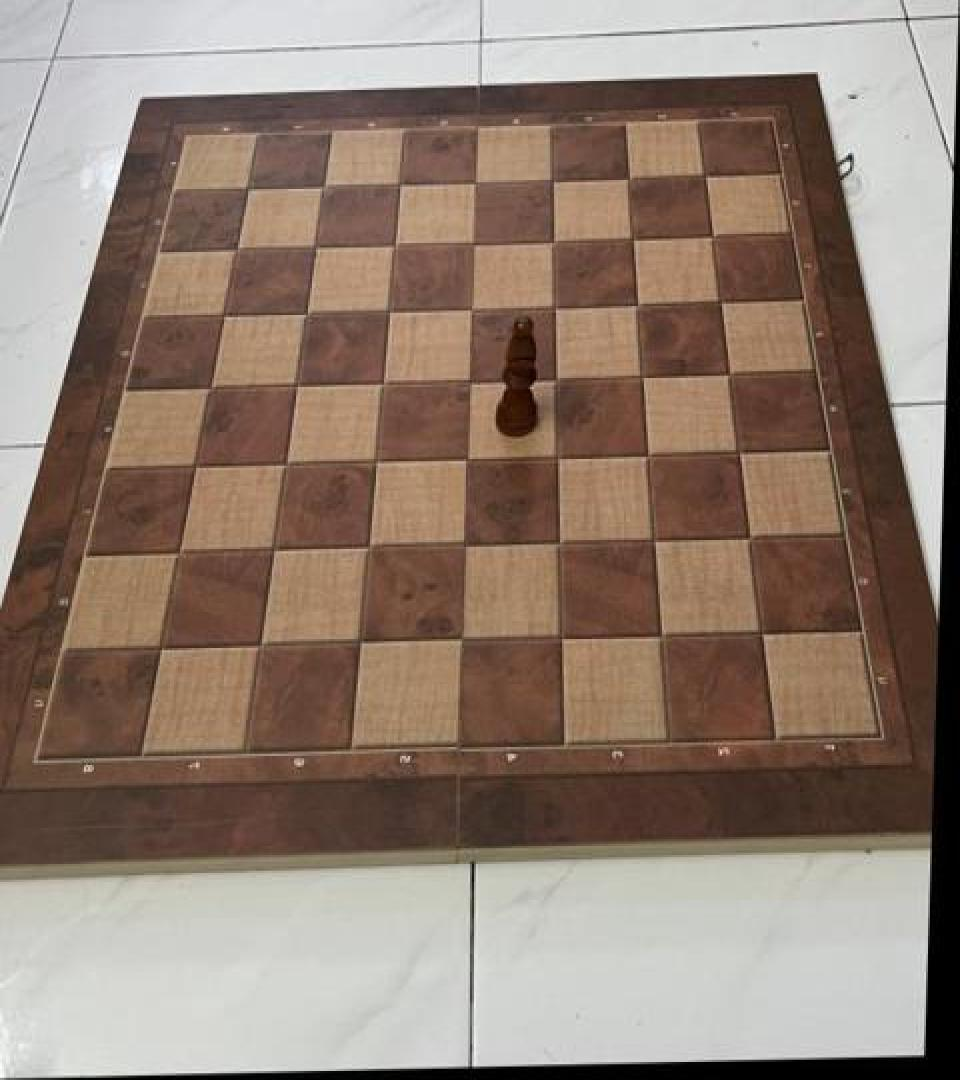xcorner: (304, 164, 340, 205), (380, 163, 416, 204), (609, 156, 645, 197), (685, 154, 721, 195), (216, 228, 252, 269), (295, 226, 331, 267), (534, 219, 570, 260), (613, 217, 649, 258), (286, 291, 322, 332), (369, 289, 405, 330), (618, 282, 654, 323), (701, 280, 737, 321), (277, 363, 313, 404), (363, 361, 399, 402), (623, 354, 659, 395), (710, 352, 746, 393), (266, 442, 302, 483), (538, 435, 574, 476), (629, 433, 665, 474), (160, 532, 196, 573), (444, 524, 480, 565), (730, 516, 766, 557), (242, 624, 278, 665), (341, 622, 377, 663), (641, 614, 677, 655), (227, 167, 263, 207), (456, 161, 492, 201), (532, 159, 568, 199), (375, 224, 411, 264), (454, 222, 490, 262), (693, 215, 729, 255), (204, 294, 240, 334), (452, 287, 488, 327), (535, 285, 571, 325), (190, 366, 226, 406), (450, 359, 486, 399), (536, 357, 572, 397), (176, 446, 212, 486), (357, 440, 393, 480), (447, 438, 483, 478), (719, 431, 755, 471), (254, 529, 290, 569), (349, 527, 385, 567), (539, 522, 575, 562), (635, 520, 671, 560), (142, 627, 178, 667), (441, 620, 477, 660), (541, 618, 577, 658), (742, 612, 778, 652)
